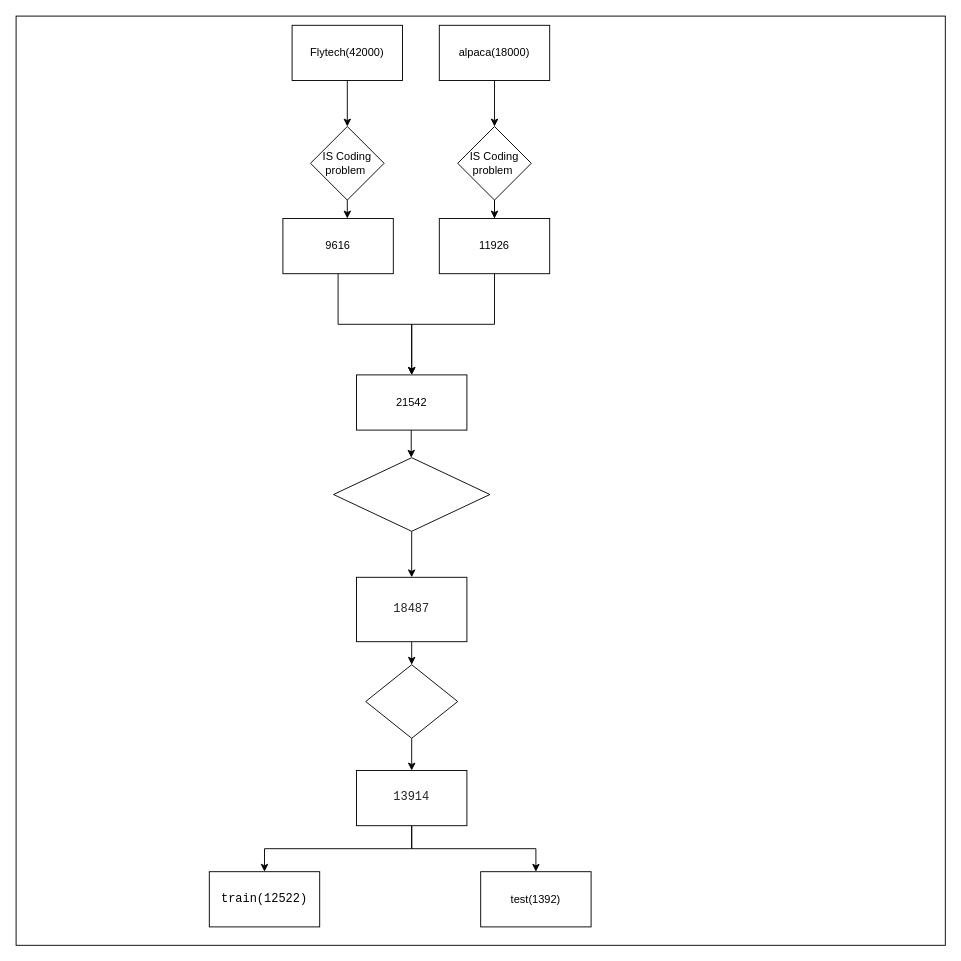
Some shapes in this 961 by 961 pixel diagram are drawn without their labels. Here are the shapes that lost their labels. From the top down, the centre of each, then its label:
point (411, 494): is len > 7 & repeat ratio <0.4
point (411, 701): is functional code
